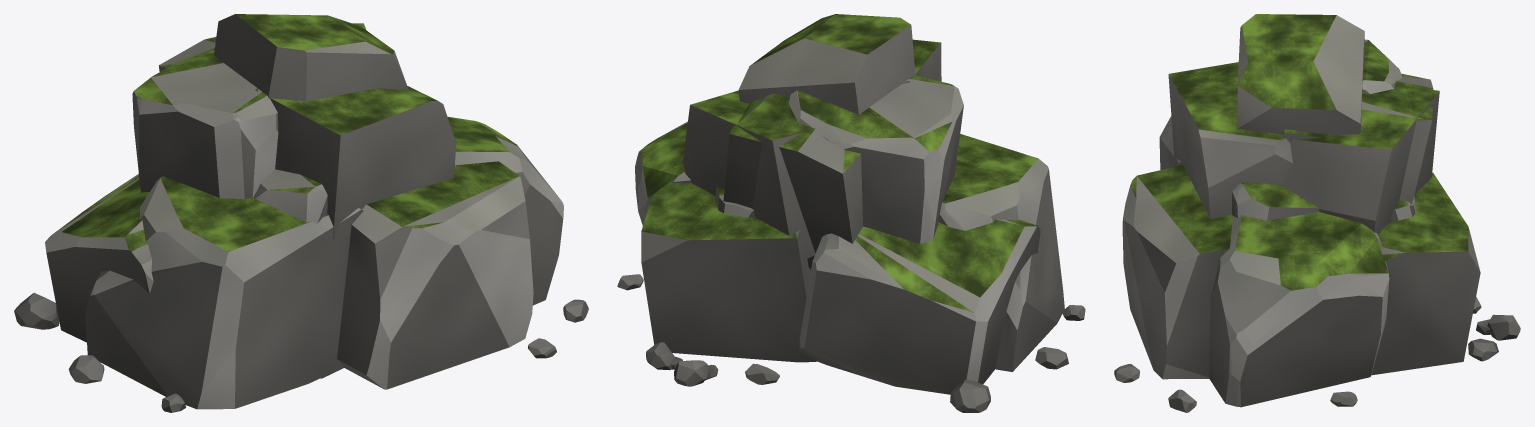
File: Cracked_rock_01.glb
The picture shows the model from 3 angles, left to right: view 1: azimuth 30°, elevation 25°; view 2: azimuth 150°, elevation 25°; view 3: azimuth 270°, elevation 25°; orthographic projection. The views are drawn at different scales.
Parts seen in each view (by area): view 1: Rock; view 2: Rock; view 3: Rock.
Part boxes in pixels (x1,y1,x2,y2): Rock: (14,14,588,412); Rock: (617,14,1085,412); Rock: (1114,14,1520,412).
Size of what is drawn, in the model's own units: 3.76 by 2.34 by 3.11.
Materials: 2 (2 with a texture image).
